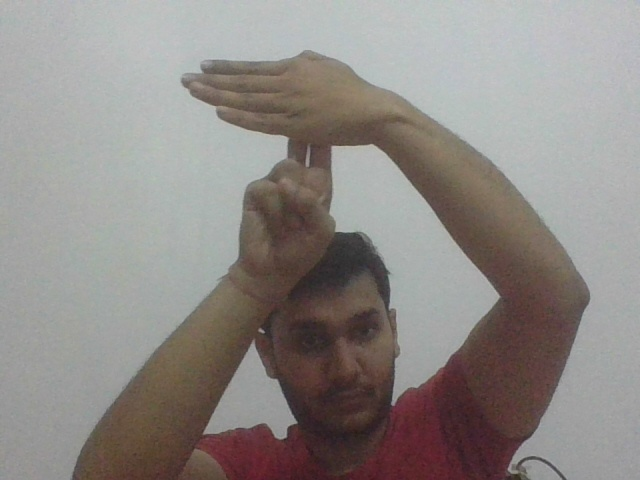N: (178, 48, 374, 173)
